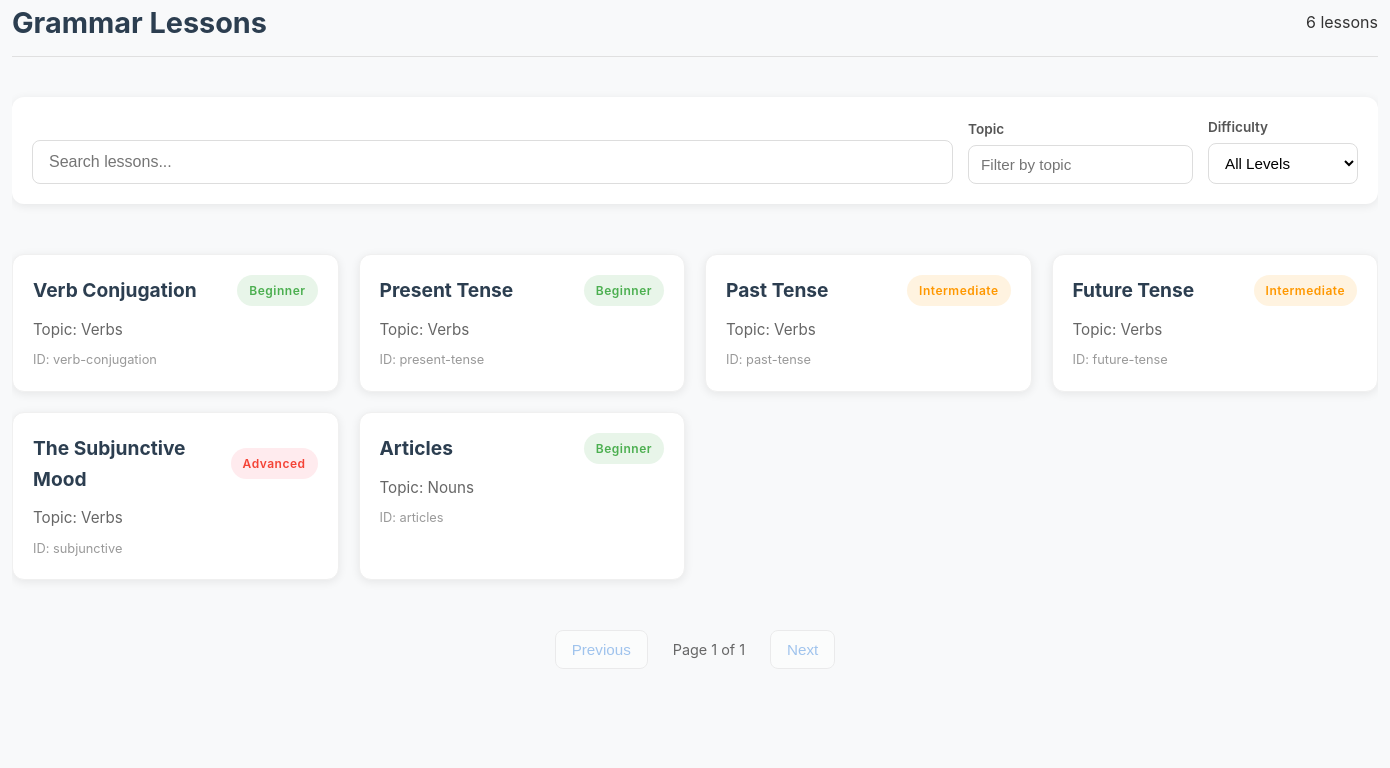
Test: LessonBrowser › Search › shows results count when search is active
Expected: the element with test id "lessons-grid" is shown, [12,254,1378,580]
Enter search query that matches some lessons
Type "Verbs" into the field with test id "lesson-search-input" at (492, 162), box [32,140,953,184]
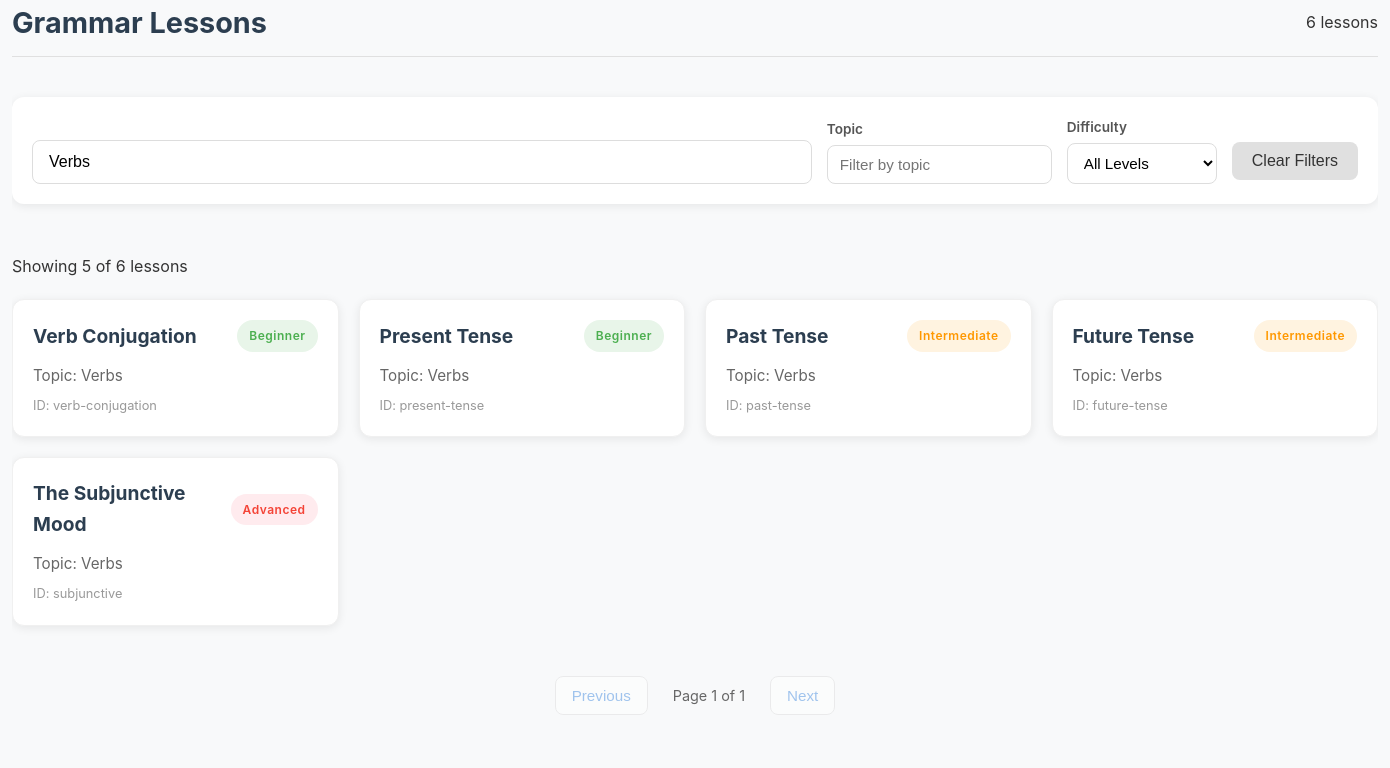
Result: the text "Showing 5 of 6 lessons" is shown at [12,256,188,276]
